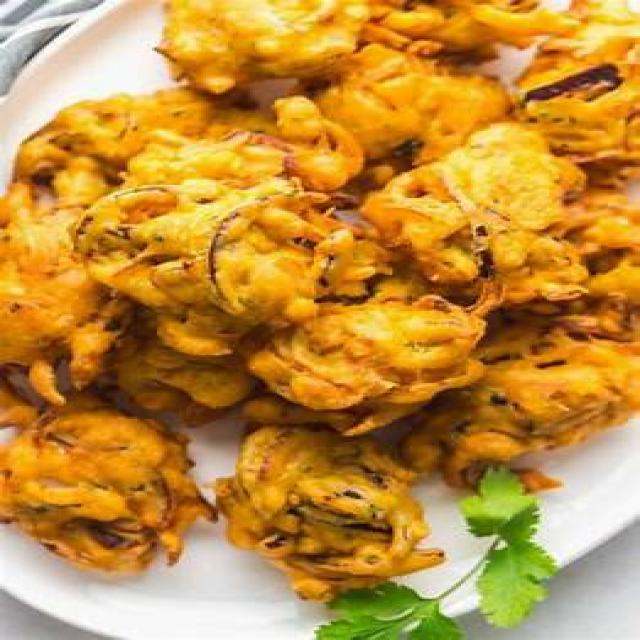Onion Pakora: (15, 0, 640, 640)
